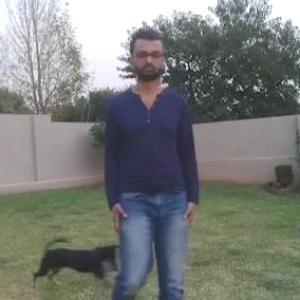follow: (95, 35, 199, 299)
